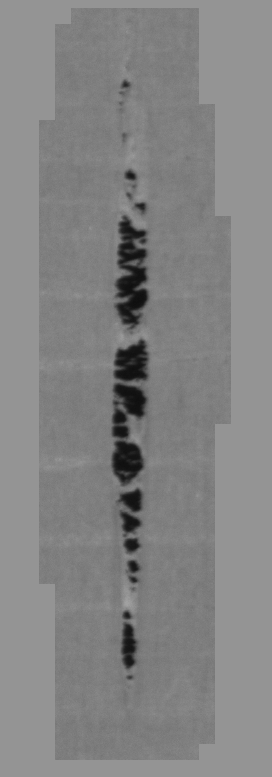oxl: (35, 10, 237, 767)
